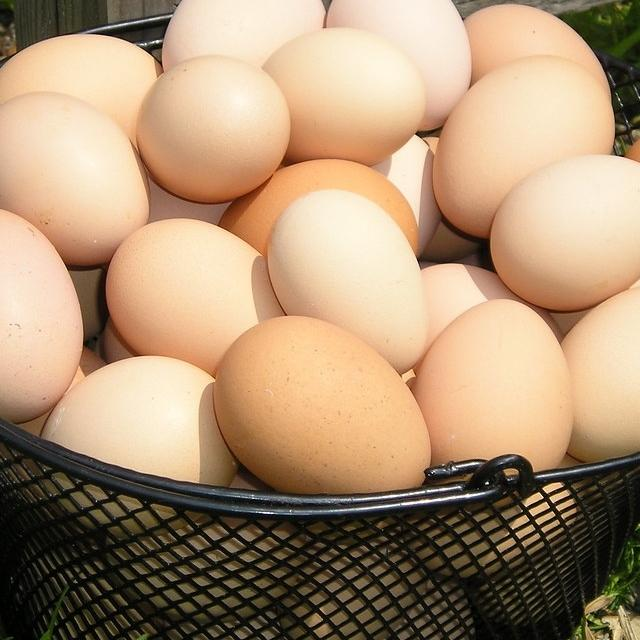egg: (213, 314, 431, 495), (432, 54, 615, 239), (266, 188, 429, 374), (104, 217, 284, 376), (413, 298, 574, 473), (0, 90, 149, 267), (40, 354, 238, 486), (489, 153, 640, 312), (135, 54, 291, 203), (261, 26, 426, 165), (218, 158, 419, 259), (325, 0, 471, 131), (0, 33, 158, 149), (0, 205, 84, 423), (560, 284, 640, 463), (463, 2, 608, 94), (161, 0, 325, 72)
